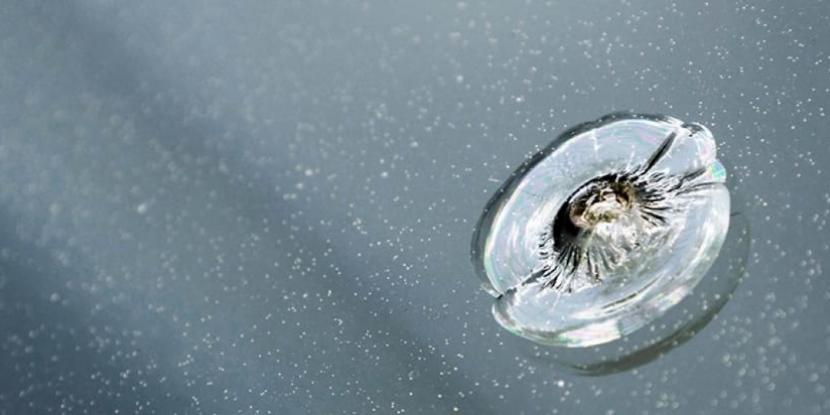bullseye: (446, 88, 754, 367)
